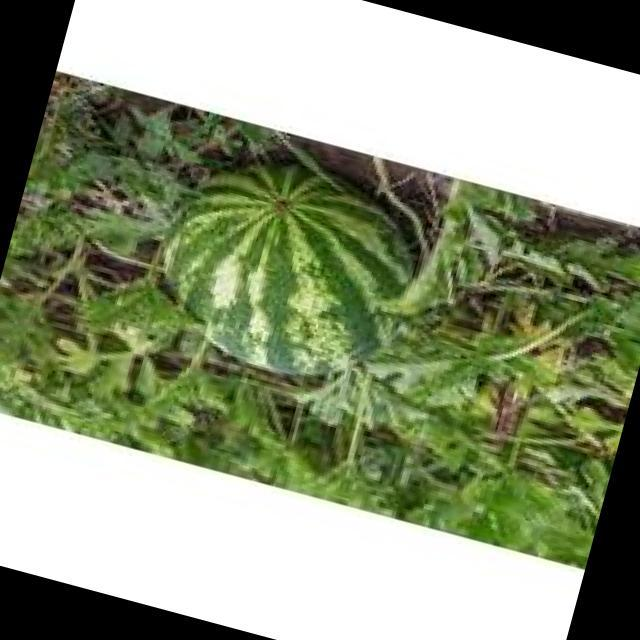watermelon: (163, 174, 413, 379)
